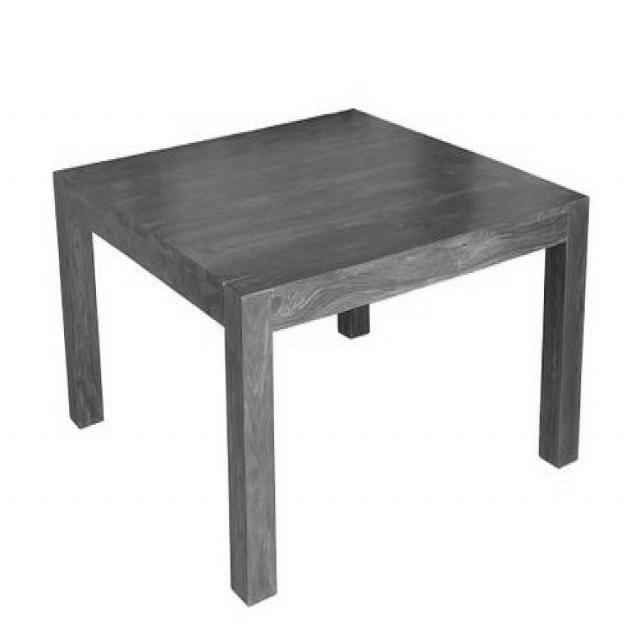table: (54, 109, 588, 605)
